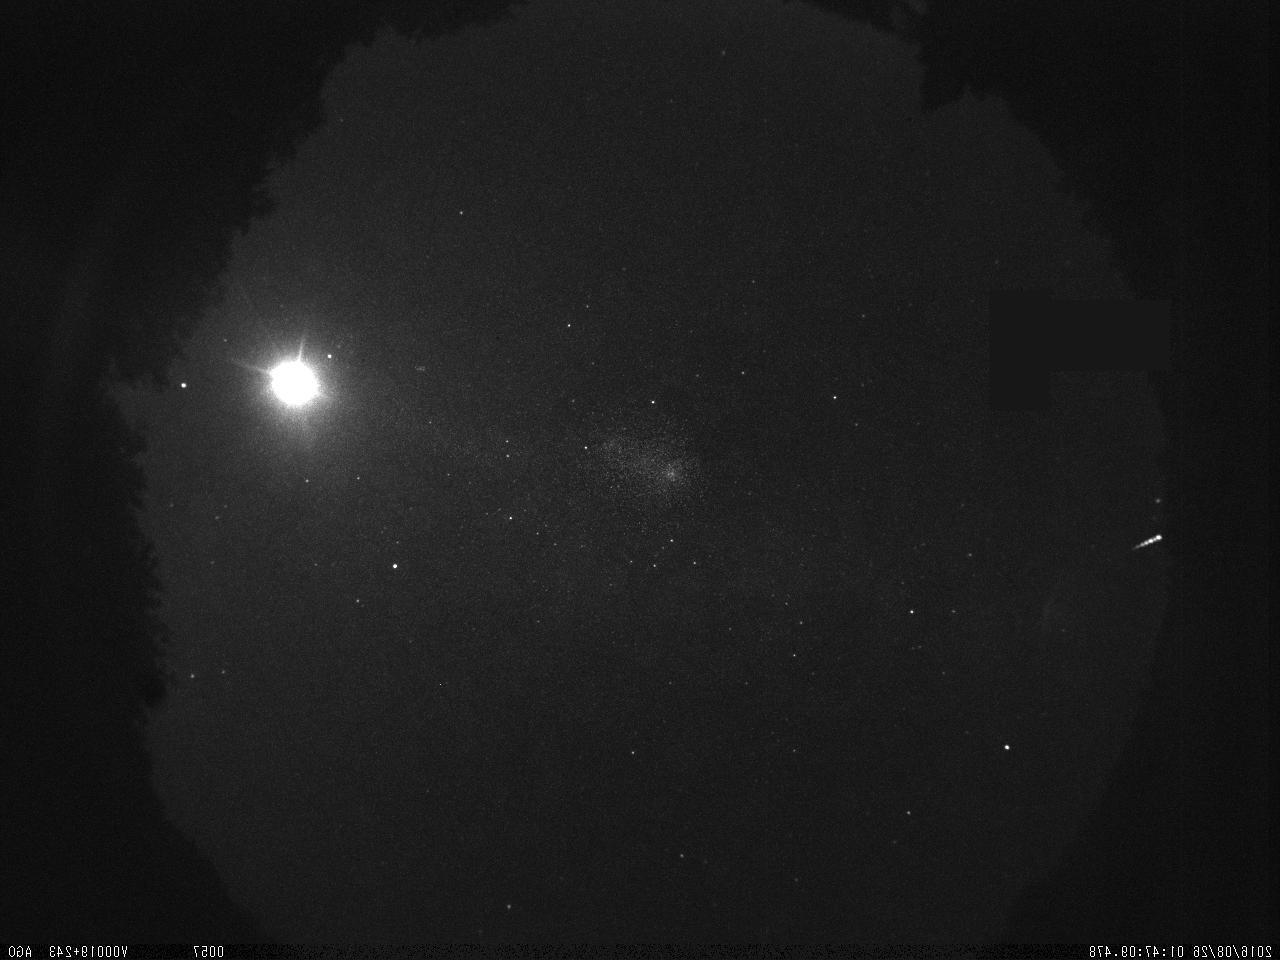meteor: (1129, 522, 1168, 567)
